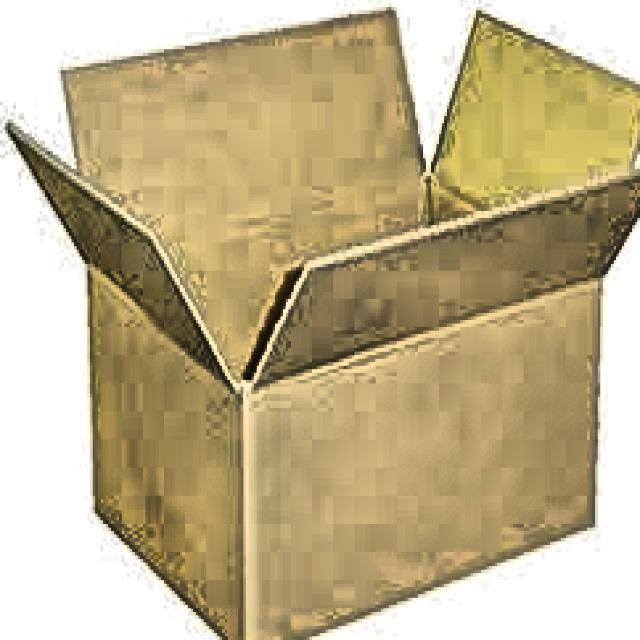cardboard: (5, 3, 639, 640)
